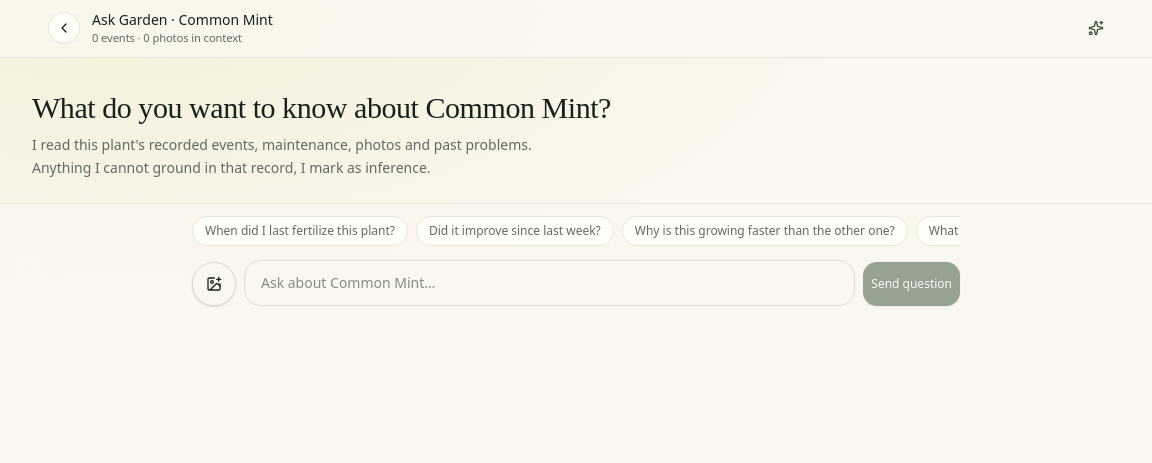
Test: plant-scoped Ask Garden real route composer › routes open-ended contextual questions to Garden AI instead of presenting the local context fallback
The image size is (1152, 463).
Type "How often should I change the water in Kratky?" into the field with placeholder "Ask about Common Mint…" at (550, 283), box [244,260,855,306]
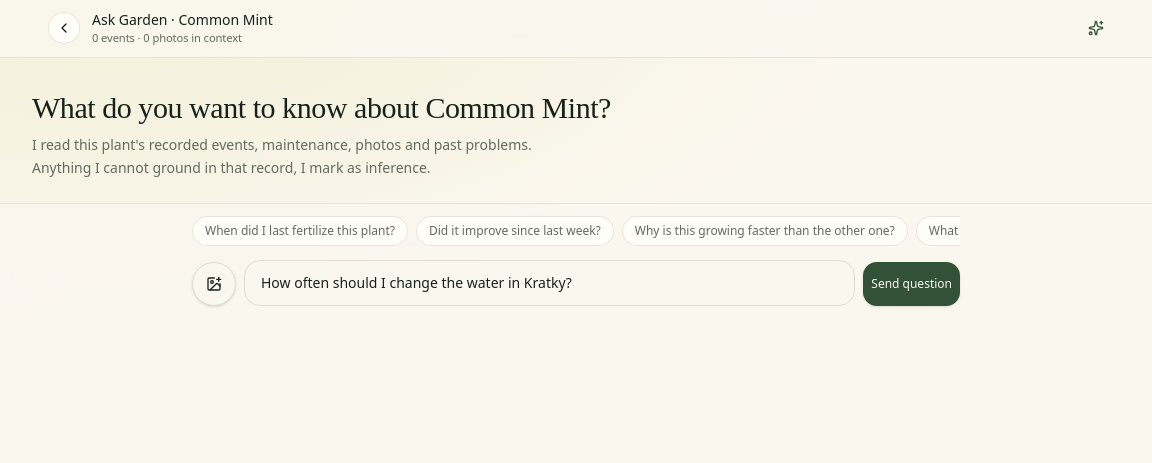
Submit the form with placeholder "Ask about Common Mint…", box [192,260,960,306]
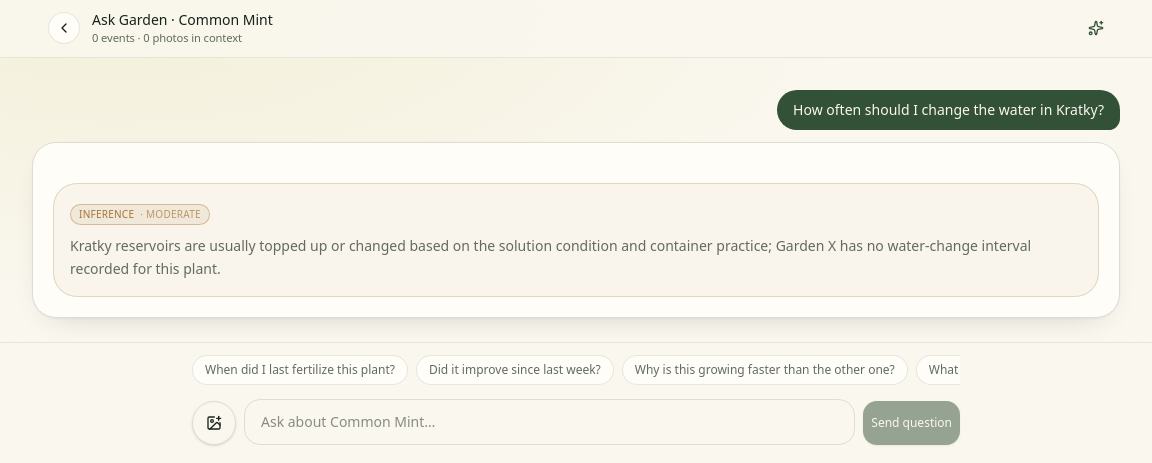
Expected: the text "How often should I change the water in Kratky?" is shown, [777,90,1120,130]
Expected: the text "Kratky reservoirs are usually" is shown, [70,236,1031,278]
